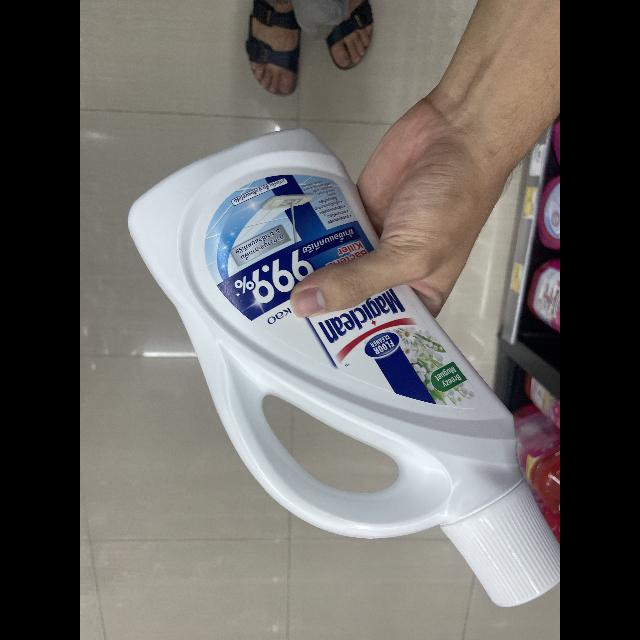chemical_plastic_gallon: (116, 122, 560, 618)
